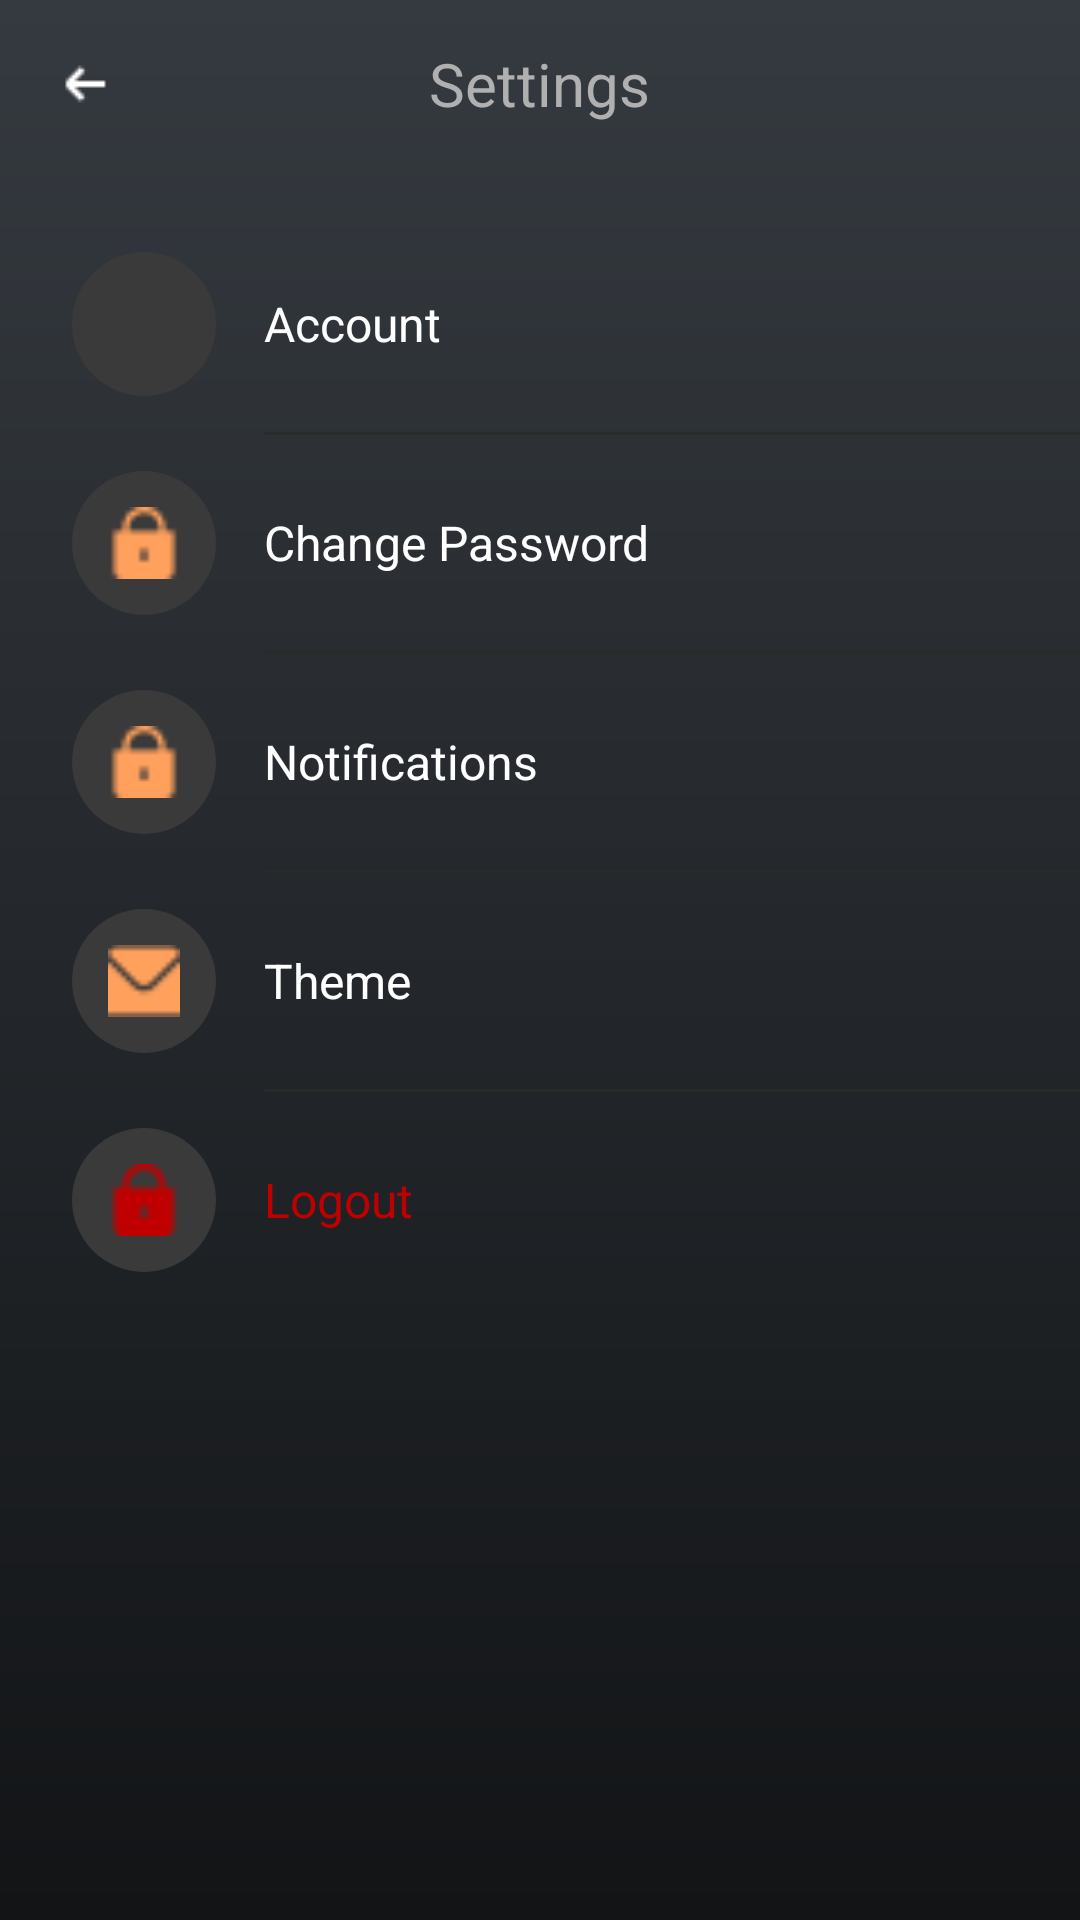

Icons on this 1080 × 1920 Android screen, each with the point to tap as point (x, y):
backarrow: point (85, 83)
email: point (144, 981)
lock: point (144, 543), point (144, 762), point (144, 1200)
